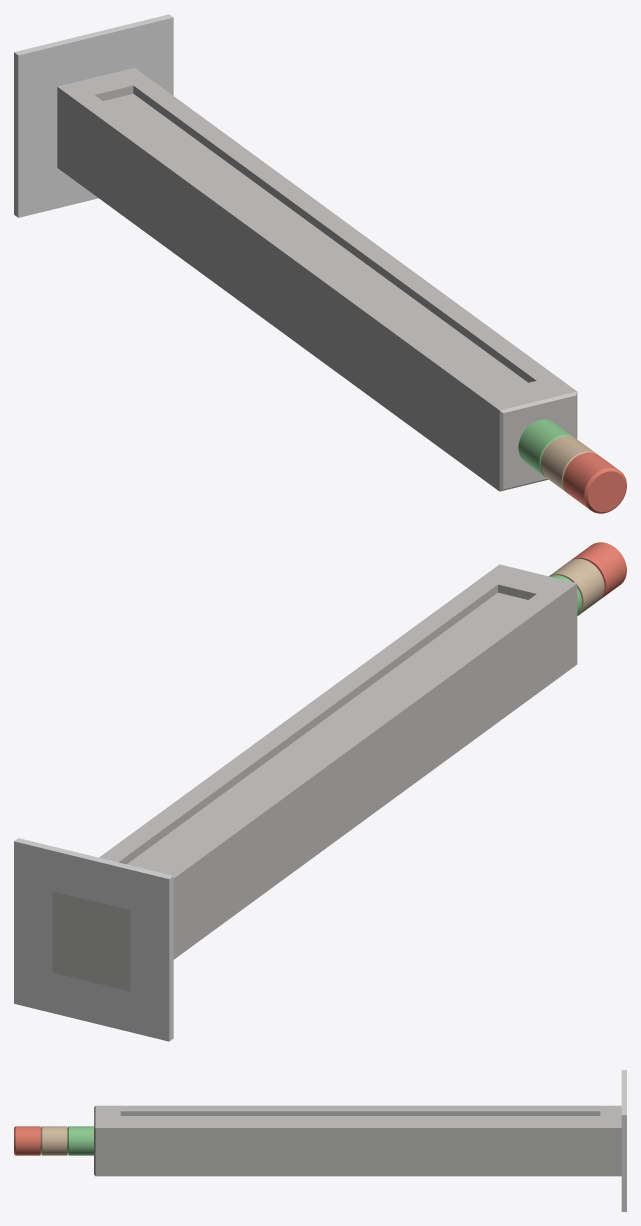
File: SignalPole.glb
3 renders of one model, top to bottom at view 1: azimuth 30°, elevation 25°; view 2: azimuth 150°, elevation 25°; view 3: azimuth 270°, elevation 25°, orthographic. The views are drawn at different scales.
Visible parts, largest first — view 1: MetalBody, MetalPlatform, RedLight, GreenLight, YellowLight; view 2: MetalBody, MetalPlatform, RedLight, YellowLight; view 3: MetalBody, MetalPlatform, YellowLight, GreenLight, RedLight.
Boxes of the visible parts, x1,y1,x2,y2 form: MetalBody: [57, 67, 577, 491]; MetalPlatform: [14, 14, 173, 217]; RedLight: [563, 452, 626, 513]; GreenLight: [518, 419, 574, 477]; YellowLight: [541, 436, 596, 493]; MetalBody: [52, 564, 577, 991]; MetalPlatform: [14, 838, 173, 1041]; RedLight: [571, 542, 626, 599]; YellowLight: [549, 558, 604, 615]; MetalBody: [94, 1105, 621, 1176]; MetalPlatform: [621, 1070, 626, 1211]; YellowLight: [40, 1126, 67, 1155]; GreenLight: [67, 1126, 93, 1155]; RedLight: [14, 1126, 40, 1155].
Size of the model in its own units: 0.2 by 0.2 by 1.15.
